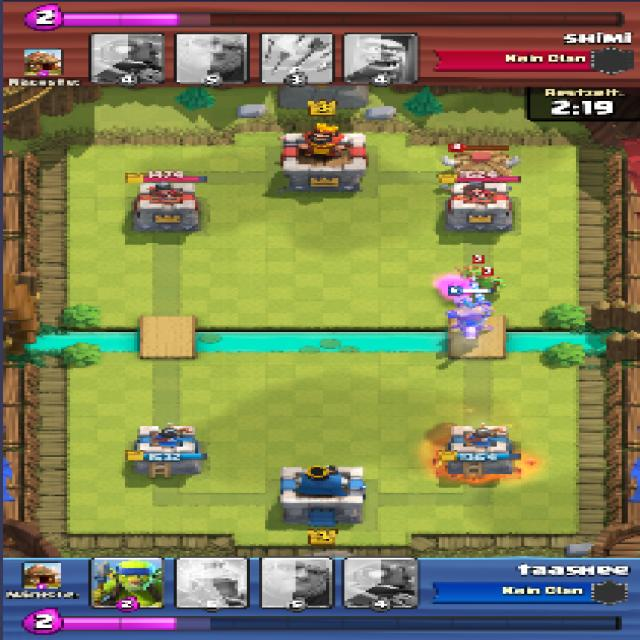Enemy-GoblinHut: (438, 149, 524, 179)
Enemy-SpearGoblin: (476, 274, 506, 295), (460, 267, 487, 283)
Player-Prince: (445, 279, 498, 336)
